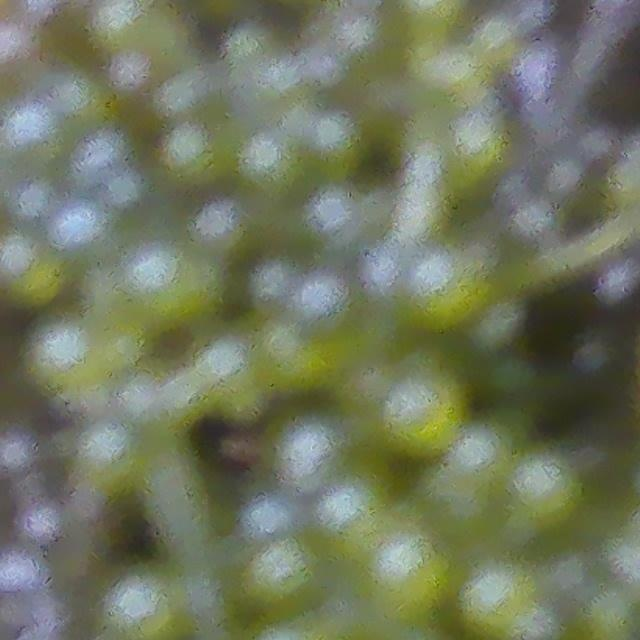SeaGrape: (382, 370, 470, 458), (366, 539, 444, 614), (245, 538, 320, 611), (513, 453, 585, 527), (465, 565, 531, 640), (30, 321, 92, 380), (76, 423, 129, 479)
